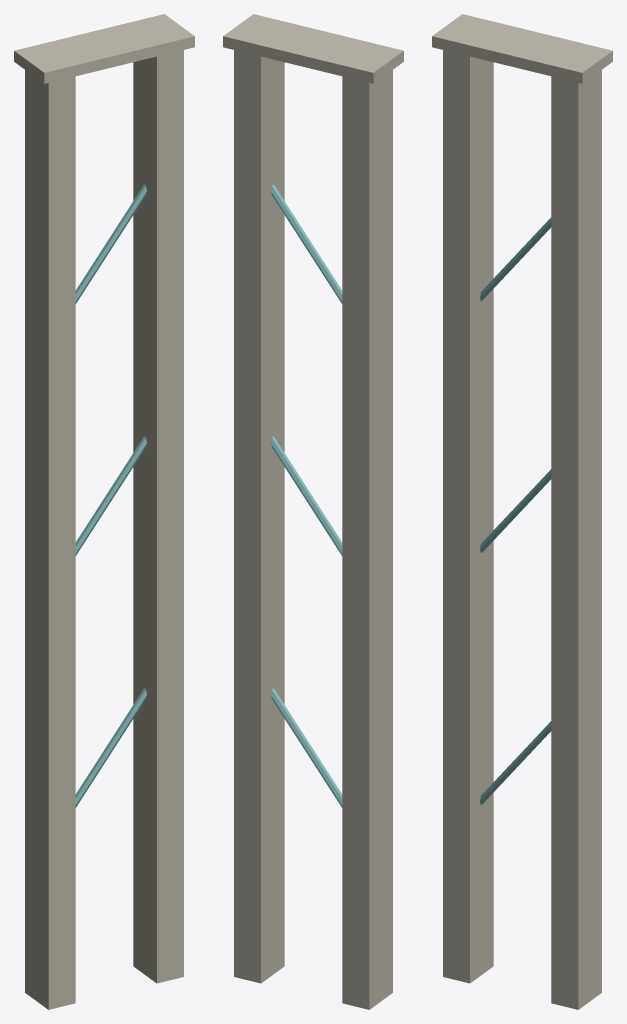
The picture shows the model from 3 angles, left to right: view 1: azimuth 30°, elevation 25°; view 2: azimuth 150°, elevation 25°; view 3: azimuth 330°, elevation 25°; orthographic projection.
Size of the model in its own units: 10 by 59.8 by 3.5.
